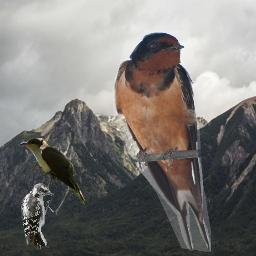Cuckoo: (18, 138, 85, 204)
Swallow: (113, 31, 211, 252)
Woodpecker: (21, 183, 55, 249)
